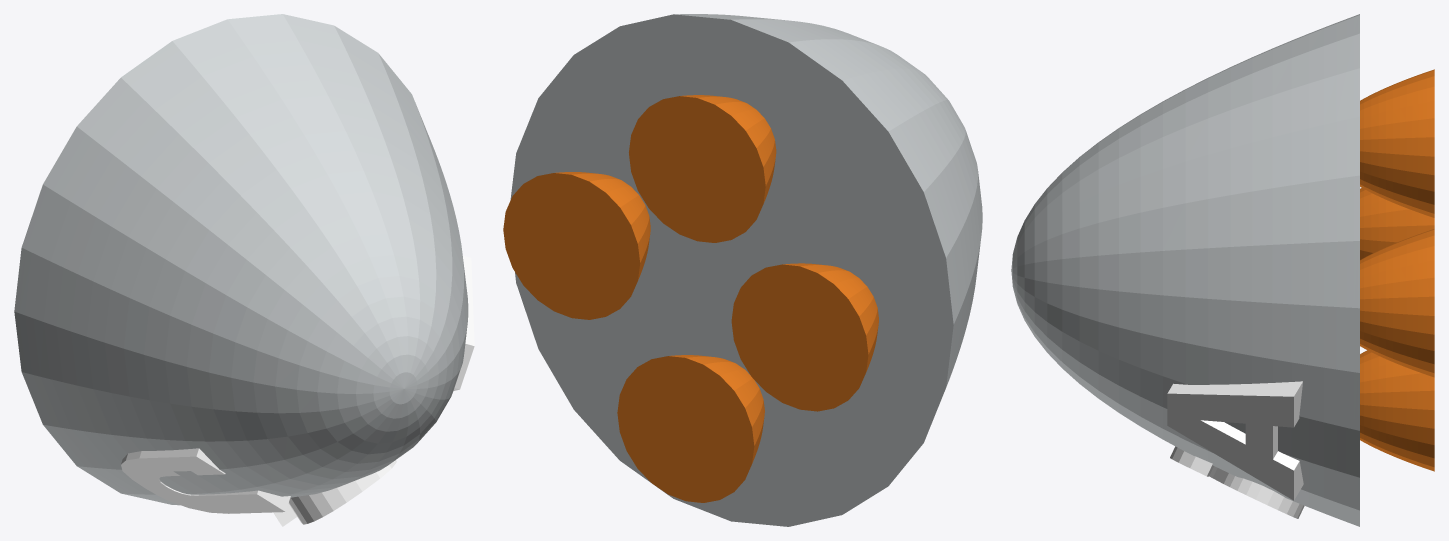
File: tinker.obj
The picture shows the model from 3 angles, left to right: view 1: azimuth 30°, elevation 25°; view 2: azimuth 150°, elevation 25°; view 3: azimuth 270°, elevation 25°; orthographic projection. The views are drawn at different scales.
Parts seen in each view (by area): view 1: group_0_14541540, group_0_16777215; view 2: group_0_14541540, group_0_16089887; view 3: group_0_14541540, group_0_16089887, group_0_16777215.
Boxes of the visible parts, <box> form: group_0_14541540: <box>14,14,468,505</box>; group_0_16777215: <box>121,255,474,526</box>; group_0_14541540: <box>510,14,982,526</box>; group_0_16089887: <box>503,95,878,502</box>; group_0_14541540: <box>1011,14,1359,526</box>; group_0_16089887: <box>1360,69,1434,471</box>; group_0_16777215: <box>1167,381,1304,518</box>.
Bounding box in the file's own units: 39 × 42 × 34.
